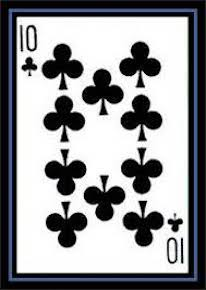TenOfClubs: (12, 7, 197, 280)
